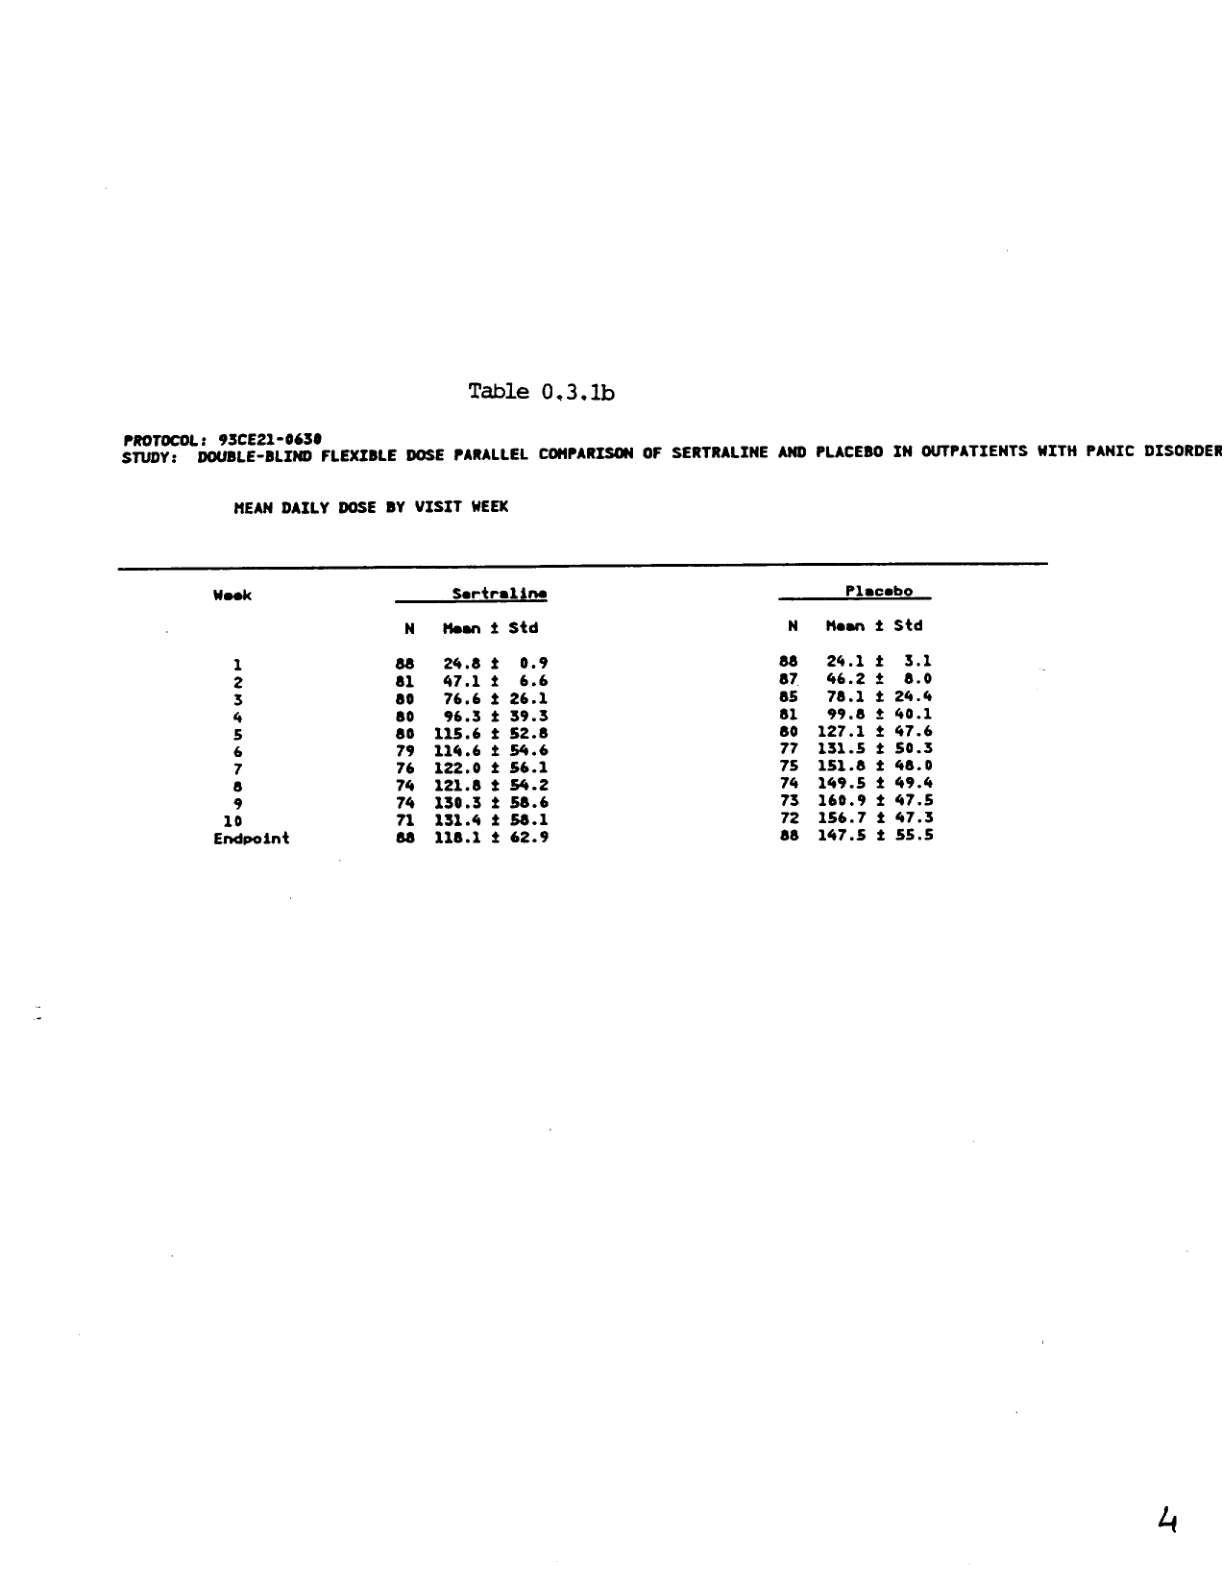partial_lined_merged_cells: (118, 562, 1048, 846)
